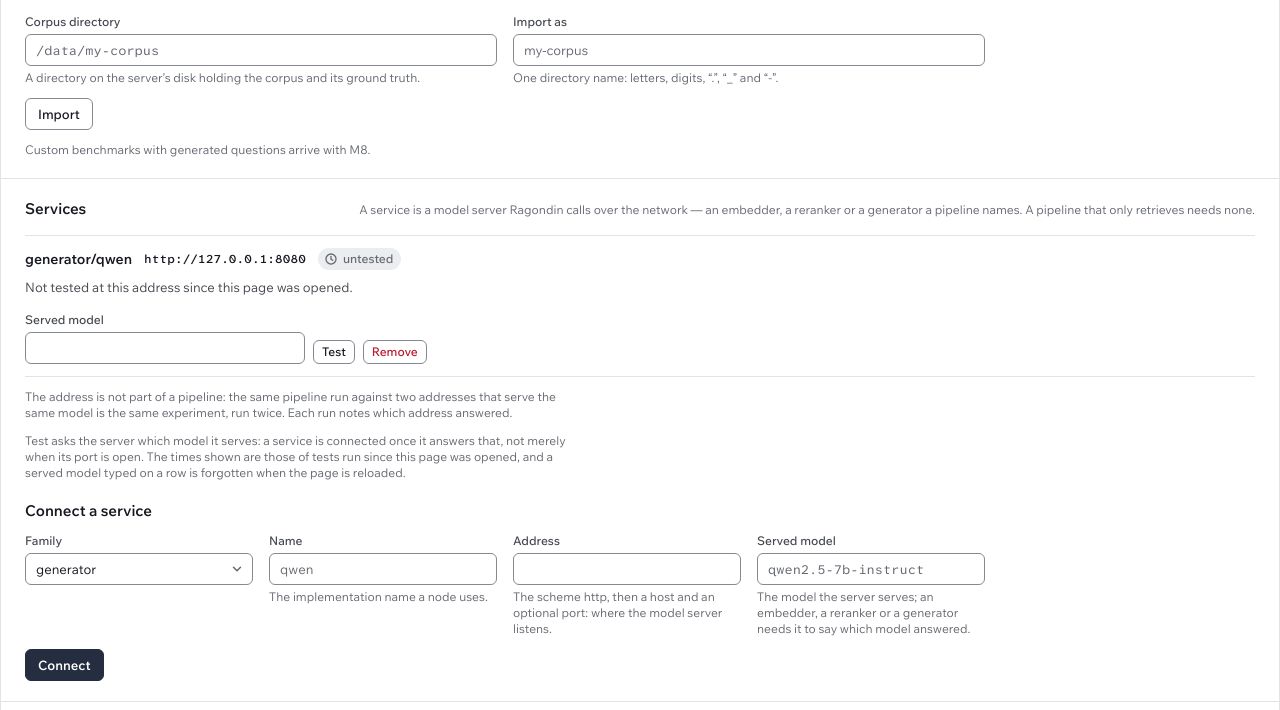
Scenario: the services › the undo window › does not delete a binding whose address changed meanwhile, and says why
(page scrolled)
Click the button with aria-label "Remove generator/qwen" at coordinates (395, 352), box [363,340,427,364]
Wait 10000 ms
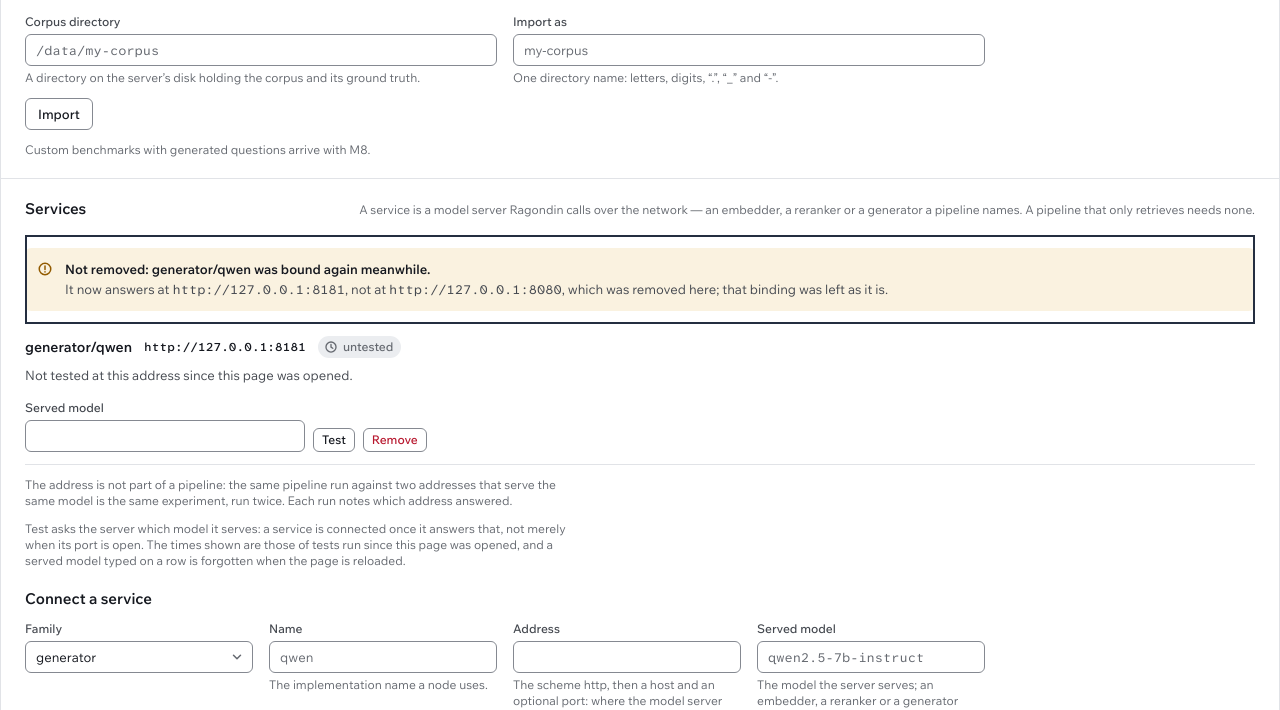
Result: the list item with aria-label "generator/qwen, not removed" shows "http://127.0.0.1:8181" at [172,281,345,298]
Result: the text "http://127.0.0.1:8181" next to "untested" is shown at [144,339,306,355]
